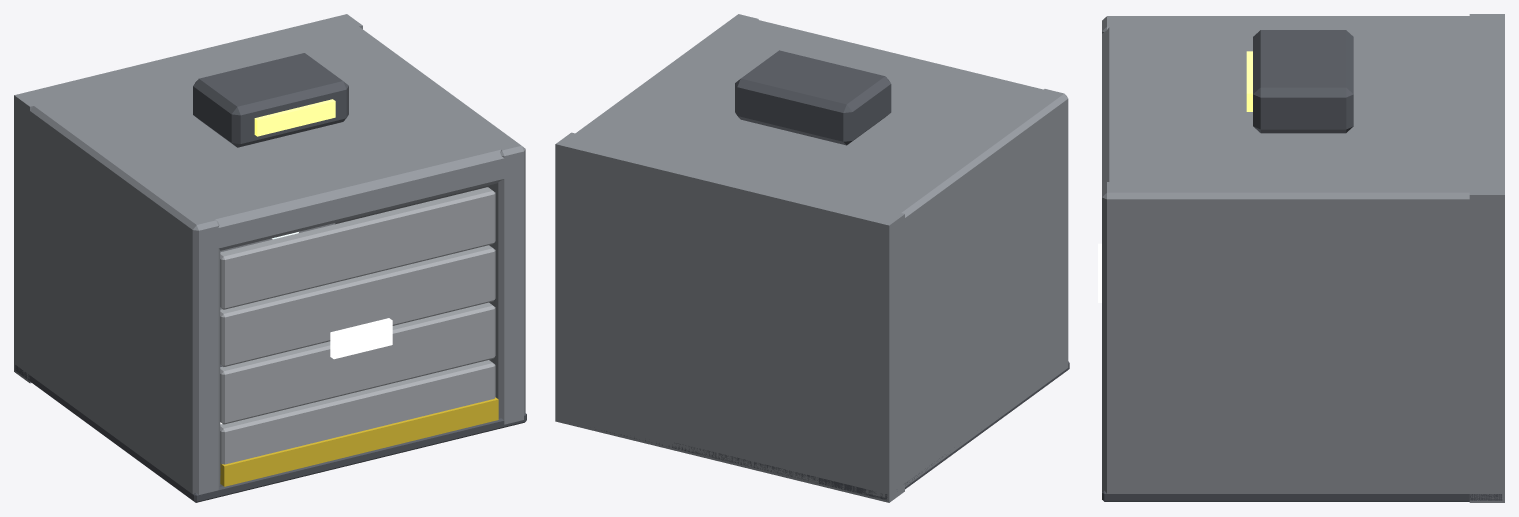
File: rb_station_defender.glb
The picture shows the model from 3 angles, left to right: view 1: azimuth 30°, elevation 25°; view 2: azimuth 150°, elevation 25°; view 3: azimuth 270°, elevation 25°; orthographic projection. The views are drawn at different scales.
Visible parts, largest first — view 1: rb_station_defender, shutter; view 2: rb_station_defender; view 3: rb_station_defender.
Boxes of the visible parts, x1,y1,x2,y2 form: rb_station_defender: (14,14,526,502); shutter: (220,187,498,486); rb_station_defender: (555,14,1069,502); rb_station_defender: (1102,14,1504,502).
Bounding box in the file's own units: 1.7 × 1.55 × 1.62.
